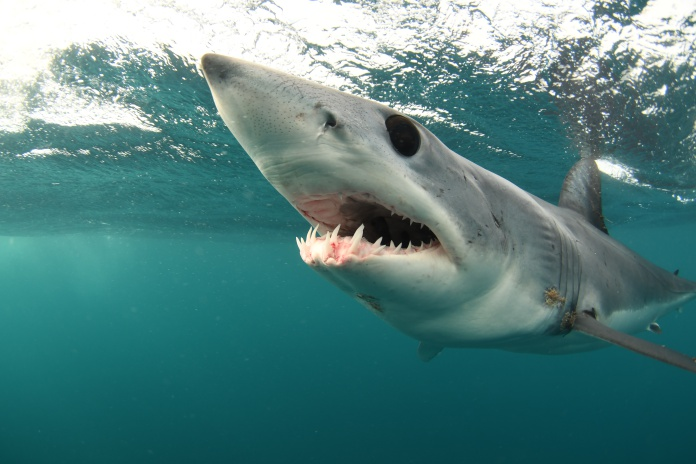Mako: (157, 43, 696, 390)
